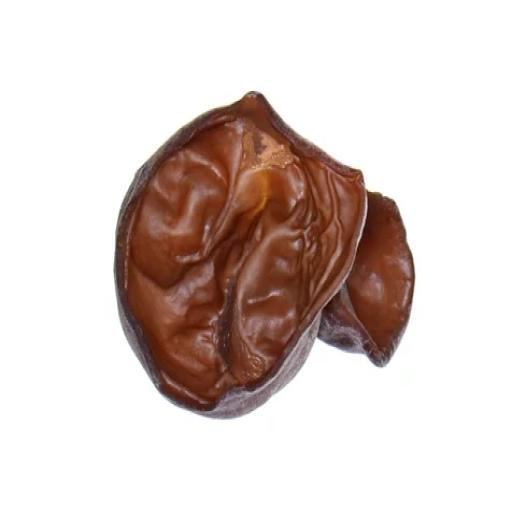Wood Ear Mushroom: (104, 80, 423, 422)
